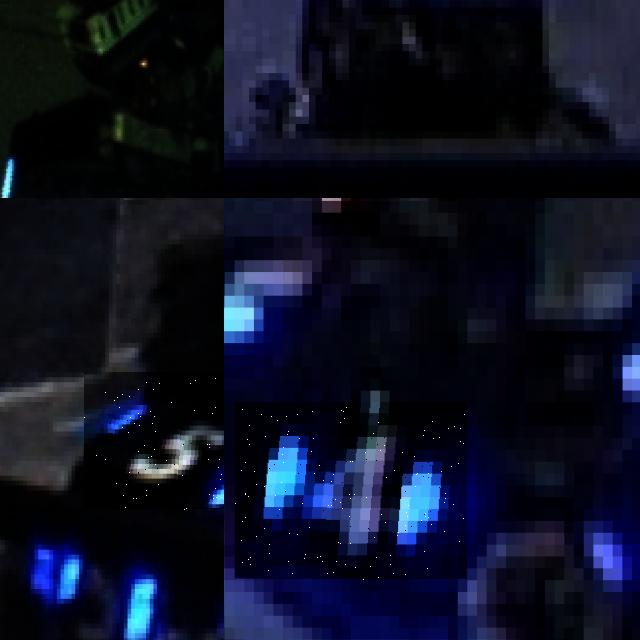B4: (235, 402, 467, 580)
B5: (84, 372, 224, 510), (32, 530, 155, 640)
